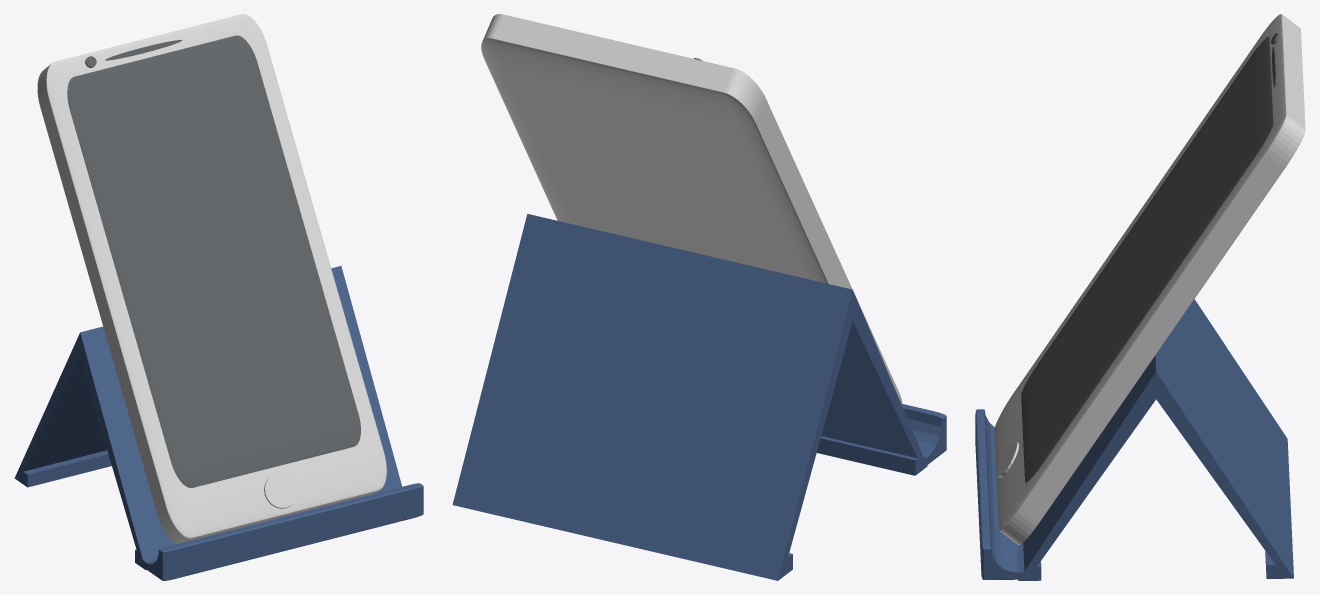
File: 3_pid_4.gltf
3 renders of one model, left to right at view 1: azimuth 30°, elevation 25°; view 2: azimuth 150°, elevation 25°; view 3: azimuth 270°, elevation 25°, orthographic. The views are drawn at different scales.
Visible parts, largest first — view 1: Mesh_Mesh_head_geo.001_lambert2SG.001; view 2: Mesh_Mesh_head_geo.001_lambert2SG.001; view 3: Mesh_Mesh_head_geo.001_lambert2SG.001.
Part boxes in pixels (box(x1,y1,x2,y2)): Mesh_Mesh_head_geo.001_lambert2SG.001: box(14, 14, 423, 580); Mesh_Mesh_head_geo.001_lambert2SG.001: box(452, 14, 946, 580); Mesh_Mesh_head_geo.001_lambert2SG.001: box(975, 14, 1305, 580).
Size of the model in its own units: 36.64 by 53.3 by 35.91.
